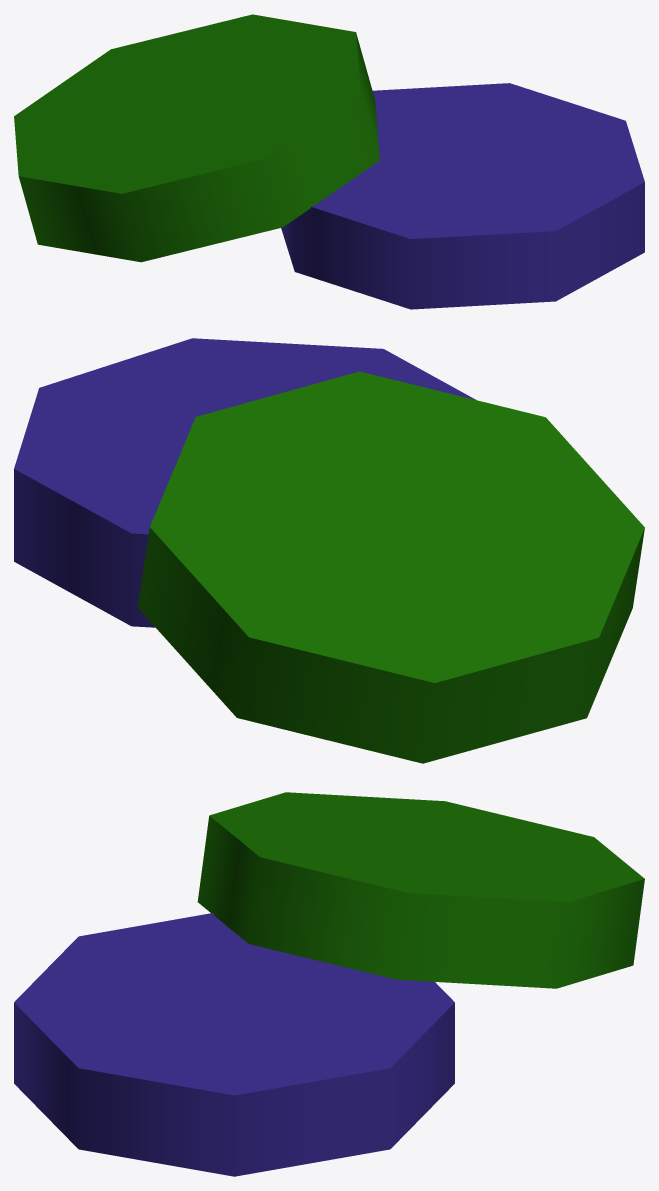
File: moeda_poquer_dois.fbx
3 views of the same model, one above another, from view 1: azimuth 30°, elevation 25°; view 2: azimuth 150°, elevation 25°; view 3: azimuth 270°, elevation 25° (orthographic). The views are drawn at different scales.
Visible parts, largest first — view 1: moeda_poquer_dois; view 2: moeda_poquer_dois; view 3: moeda_poquer_dois.
Boxes of the visible parts, <box> form: moeda_poquer_dois: <box>14,14,644,309</box>; moeda_poquer_dois: <box>14,338,644,763</box>; moeda_poquer_dois: <box>14,792,644,1176</box>.
Size of the model in its own units: 8.51 by 2.41 by 7.81.
